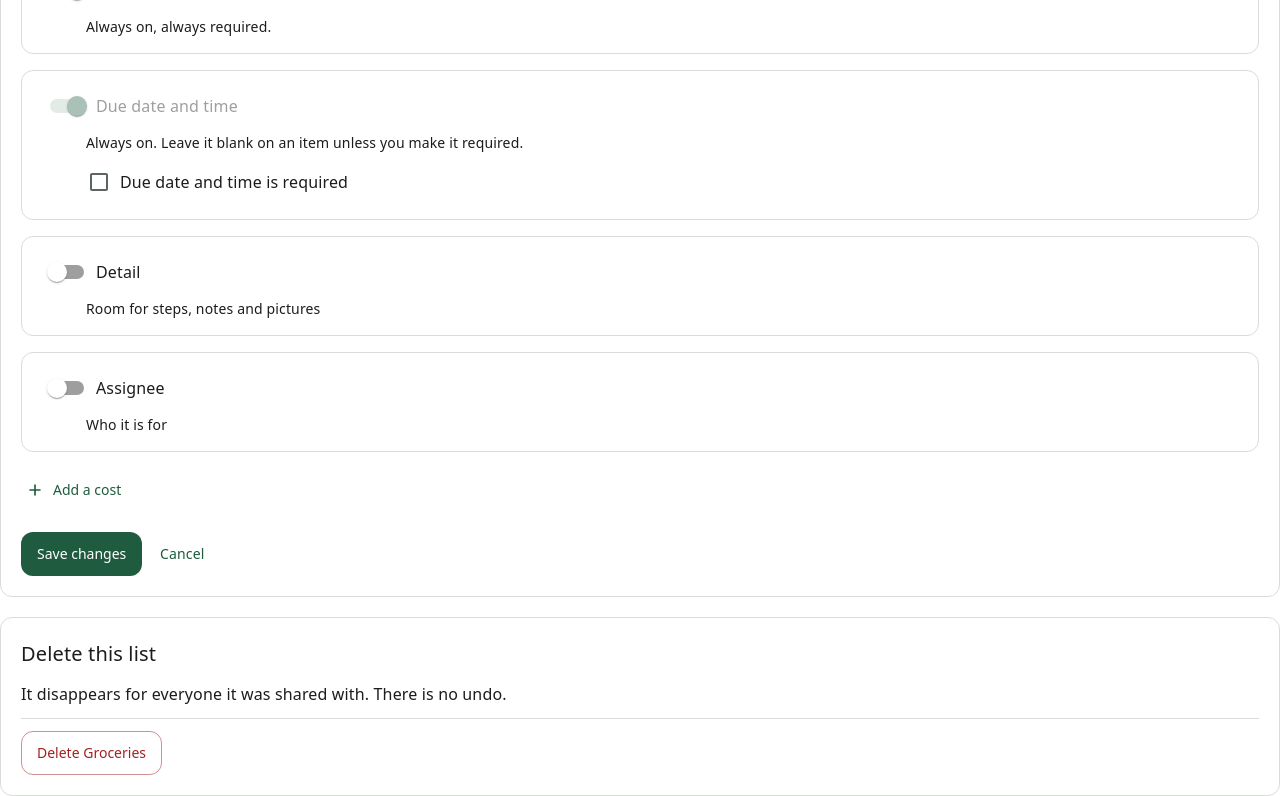
it: ListSettingsPage › asks before deleting, because there is no undo
Later steps or results of the test are not shown.
(page scrolled)
Click the button "Delete Groceries": x=92, y=753 [21,731,162,775]
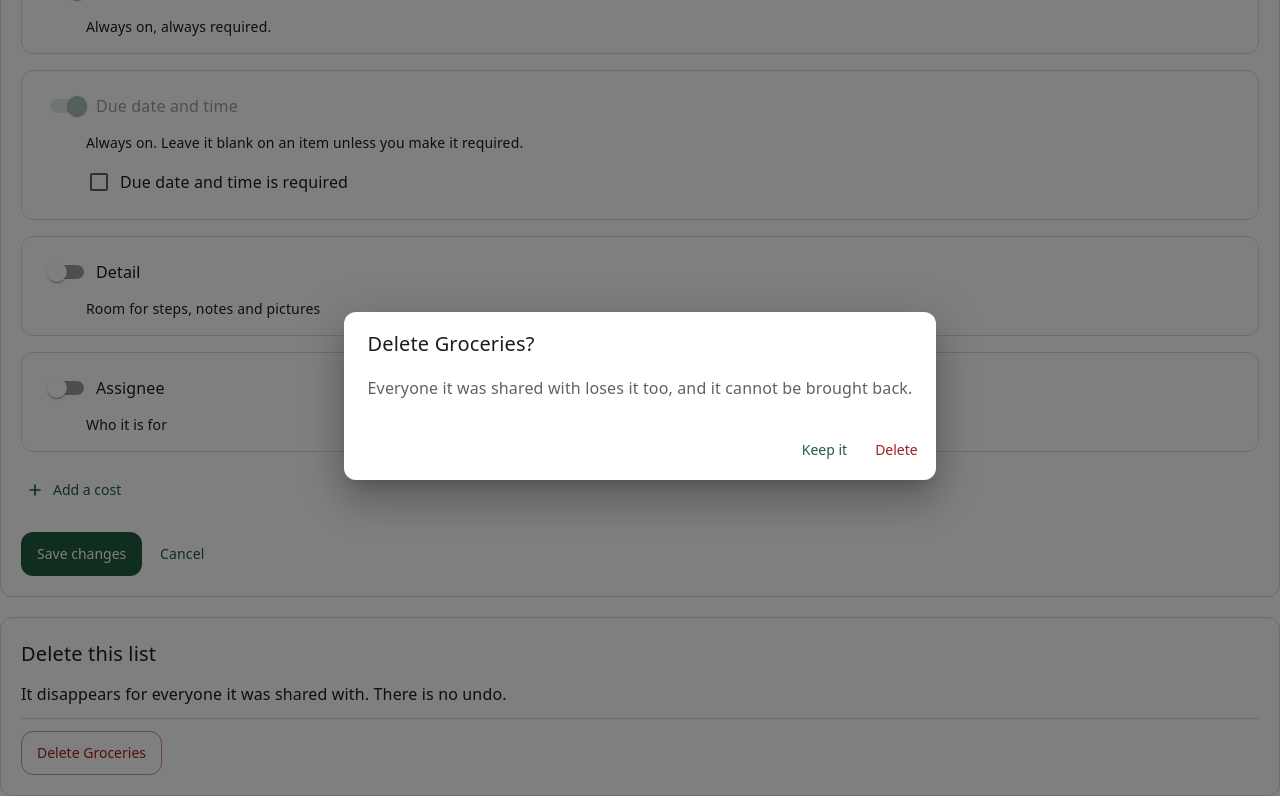
Result: the dialog is shown at [344,312,936,480]
